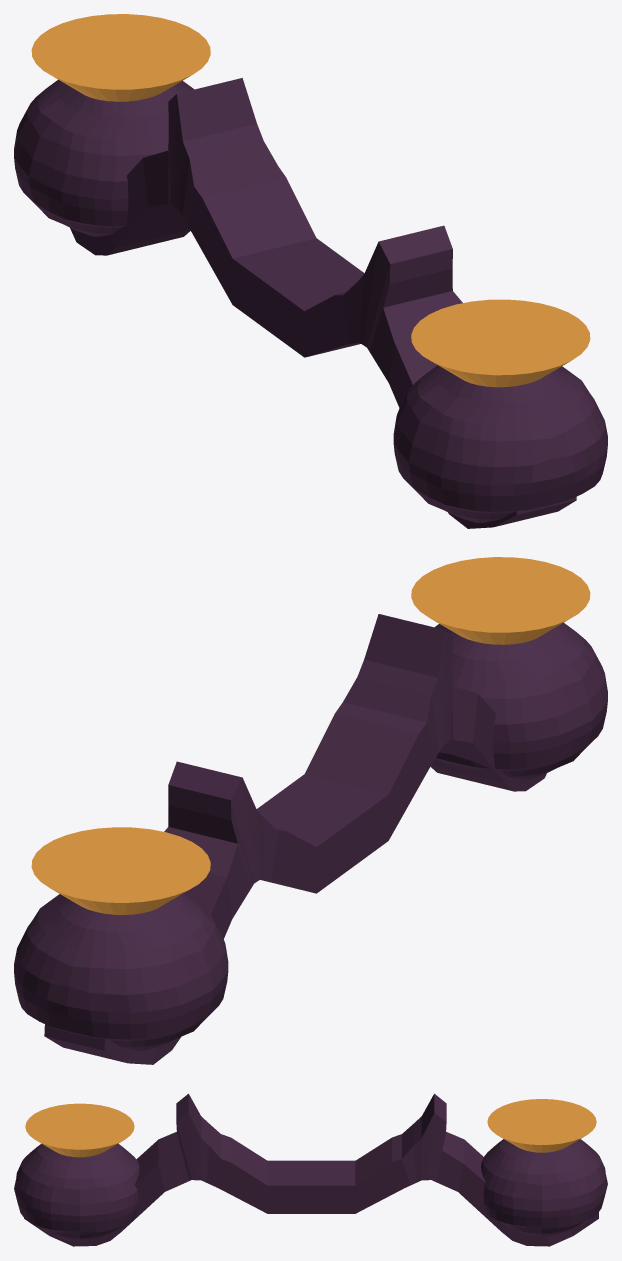
File: CandleHolder_Prot_0.3_2c.fbx
3 views of the same model, one above another, from view 1: azimuth 30°, elevation 25°; view 2: azimuth 150°, elevation 25°; view 3: azimuth 270°, elevation 25° (orthographic). The views are drawn at different scales.
Visible parts, largest first — view 1: Cube.005, Sphere.043, Sphere.040, Base.036, Base.033; view 2: Cube.005, Sphere.040, Sphere.043, Base.033, Base.036; view 3: Cube.005, Sphere.040, Sphere.043, Base.036, Base.033.
Boxes of the visible parts, x1,y1,x2,y2 form: Cube.005: [70, 78, 576, 528]; Sphere.043: [393, 365, 607, 522]; Sphere.040: [14, 79, 194, 236]; Base.036: [411, 299, 590, 387]; Base.033: [31, 14, 210, 101]; Cube.005: [44, 614, 546, 1064]; Sphere.040: [14, 893, 228, 1050]; Sphere.043: [435, 622, 607, 779]; Base.033: [31, 827, 210, 914]; Base.036: [411, 557, 590, 644]; Cube.005: [24, 1093, 598, 1246]; Sphere.040: [481, 1139, 607, 1236]; Sphere.043: [14, 1143, 139, 1240]; Base.036: [25, 1103, 134, 1157]; Base.033: [487, 1099, 596, 1152].
Size of the model in its own units: 41.48 by 46.49 by 190.
